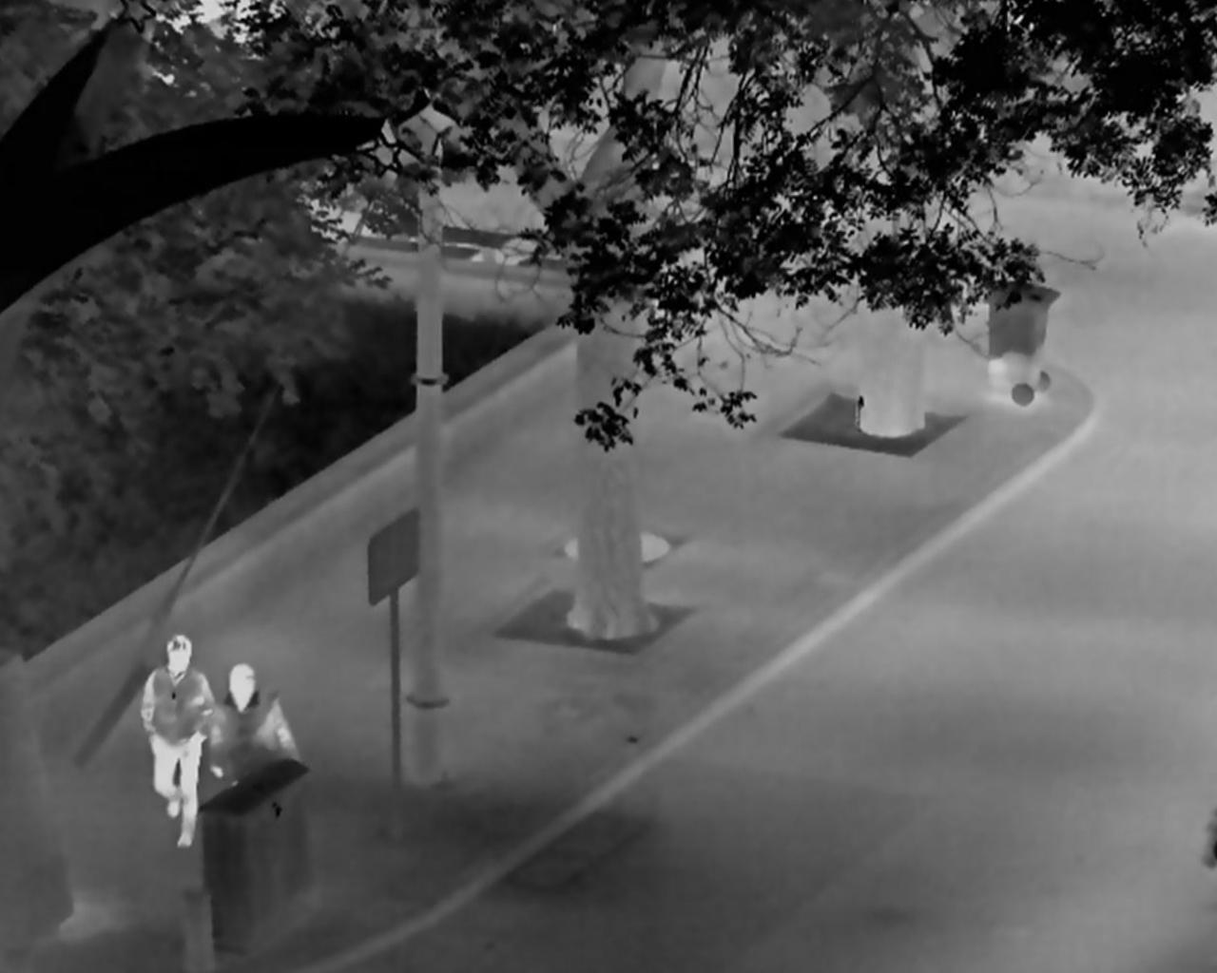person: (140, 635, 216, 848), (208, 662, 306, 787)
